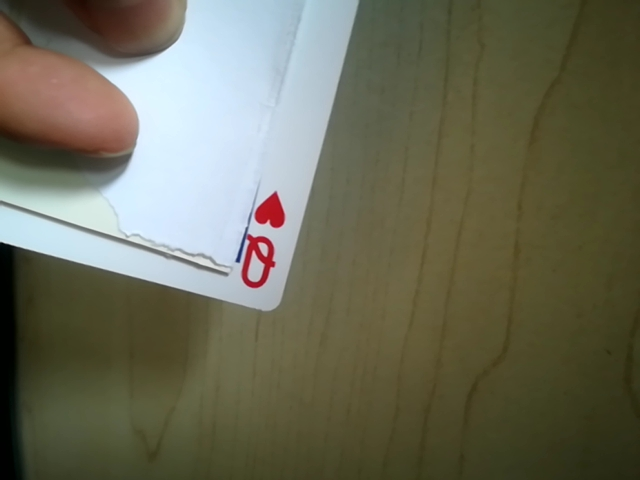hx q: (213, 188, 307, 310)
